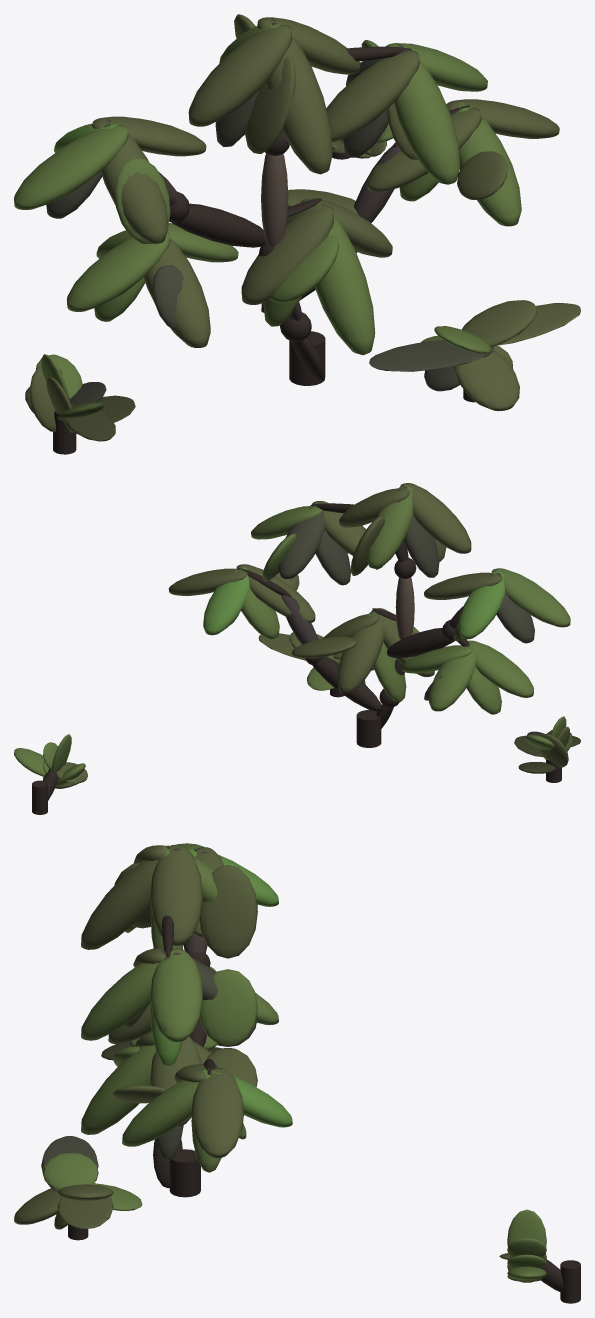
Rendered from CMU3DRMCBushb1.glb.
3 renders of one model, top to bottom at view 1: azimuth 30°, elevation 25°; view 2: azimuth 150°, elevation 25°; view 3: azimuth 270°, elevation 25°, orthographic. The views are drawn at different scales.
Parts seen in each view (by area): view 1: crown 1 frond 0, crown 2 frond 4, crown 0 frond 0, crown 4 frond 4, crown 1 frond 4, crown 2 frond 0, crown 4 frond 0, crown 5 frond 0, crown 0 frond 4, crown 5 frond 4, tuft 2 source leaf 4, crown 1 inner frond 0 (+39 smaller); view 2: crown 1 frond 0, crown 4 frond 5, crown 0 frond 0, crown 1 frond 5, crown 5 frond 0, crown 0 frond 5, crown 5 frond 5, crown 3 frond 5, crown 2 frond 5, crown 3 frond 0, crown 1 frond 1, crown 1 frond 3 (+25 smaller); view 3: crown 1 inner frond 1, crown 1 frond 3, crown 2 frond 3, crown 3 frond 3, crown 1 frond 4, crown 2 inner frond 1, crown 2 frond 4, crown 4 frond 4, crown 3 frond 4, tuft 2 source leaf 6, crown 3 frond 5, tuft 2 source leaf 3 (+16 smaller).
Boxes of the visible parts, x1,y1,x2,y2 form: crown 1 frond 0: [188, 24, 292, 126]; crown 2 frond 4: [394, 47, 459, 184]; crown 0 frond 0: [14, 125, 128, 209]; crown 4 frond 4: [315, 203, 375, 355]; crown 1 frond 4: [266, 20, 332, 174]; crown 2 frond 0: [326, 50, 419, 142]; crown 4 frond 0: [241, 205, 333, 304]; crown 5 frond 0: [67, 231, 170, 311]; crown 0 frond 4: [101, 122, 168, 243]; crown 5 frond 4: [144, 238, 210, 347]; tuft 2 source leaf 4: [453, 350, 519, 411]; crown 1 inner frond 0: [245, 55, 295, 153]; crown 1 frond 0: [400, 483, 471, 553]; crown 4 frond 5: [337, 611, 383, 693]; crown 0 frond 0: [491, 568, 570, 627]; crown 1 frond 5: [366, 485, 413, 568]; crown 5 frond 0: [468, 640, 533, 697]; crown 0 frond 5: [458, 571, 504, 639]; crown 5 frond 5: [429, 643, 475, 711]; crown 3 frond 5: [203, 567, 249, 635]; crown 2 frond 5: [278, 503, 325, 578]; crown 3 frond 0: [236, 564, 315, 622]; crown 1 frond 1: [397, 488, 439, 577]; crown 1 frond 3: [339, 488, 410, 527]; crown 1 inner frond 1: [199, 865, 257, 958]; crown 1 frond 3: [150, 844, 202, 945]; crown 2 frond 3: [150, 948, 202, 1041]; crown 3 frond 3: [191, 1067, 243, 1157]; crown 1 frond 4: [81, 847, 174, 949]; crown 2 inner frond 1: [199, 969, 257, 1046]; crown 2 frond 4: [81, 951, 174, 1040]; crown 4 frond 4: [81, 1045, 155, 1134]; crown 3 frond 4: [122, 1070, 215, 1146]; tuft 2 source leaf 6: [42, 1152, 98, 1190]; crown 3 frond 5: [202, 1069, 292, 1127]; tuft 2 source leaf 3: [57, 1196, 113, 1228].
Size of the model in its own units: 0.892 by 0.5246 by 0.8274.
